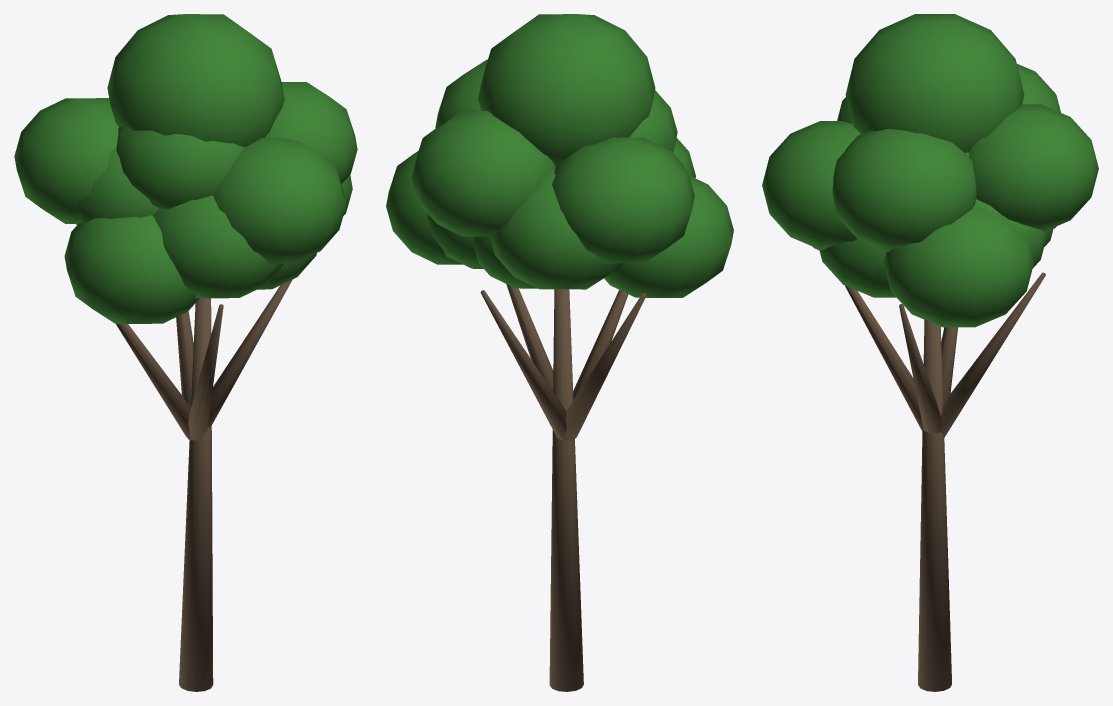
The model's file is Birch0.glb.
3 views of the same model, side by side, from view 1: azimuth 30°, elevation 25°; view 2: azimuth 150°, elevation 25°; view 3: azimuth 270°, elevation 25° (orthographic).
Visible parts, largest first — view 1: Birch0; view 2: Birch0; view 3: Birch0.
Boxes of the visible parts, <box> form: Birch0: <box>14,14,357,691</box>; Birch0: <box>386,14,733,691</box>; Birch0: <box>762,14,1098,691</box>.
Size of the model in its own units: 3.65 by 7.68 by 3.54.
